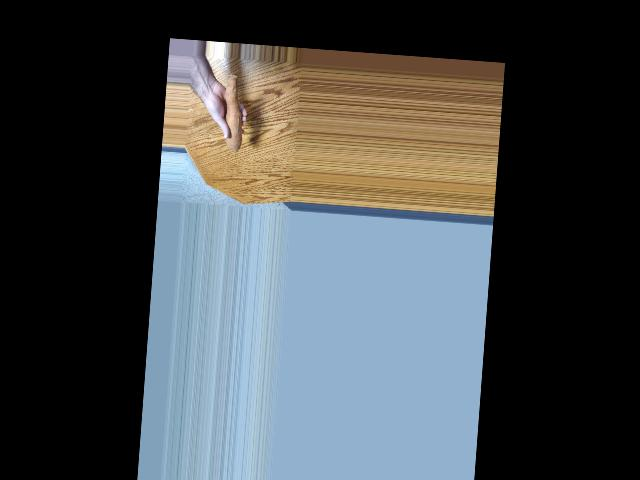sweet_potato: (219, 70, 249, 154)
